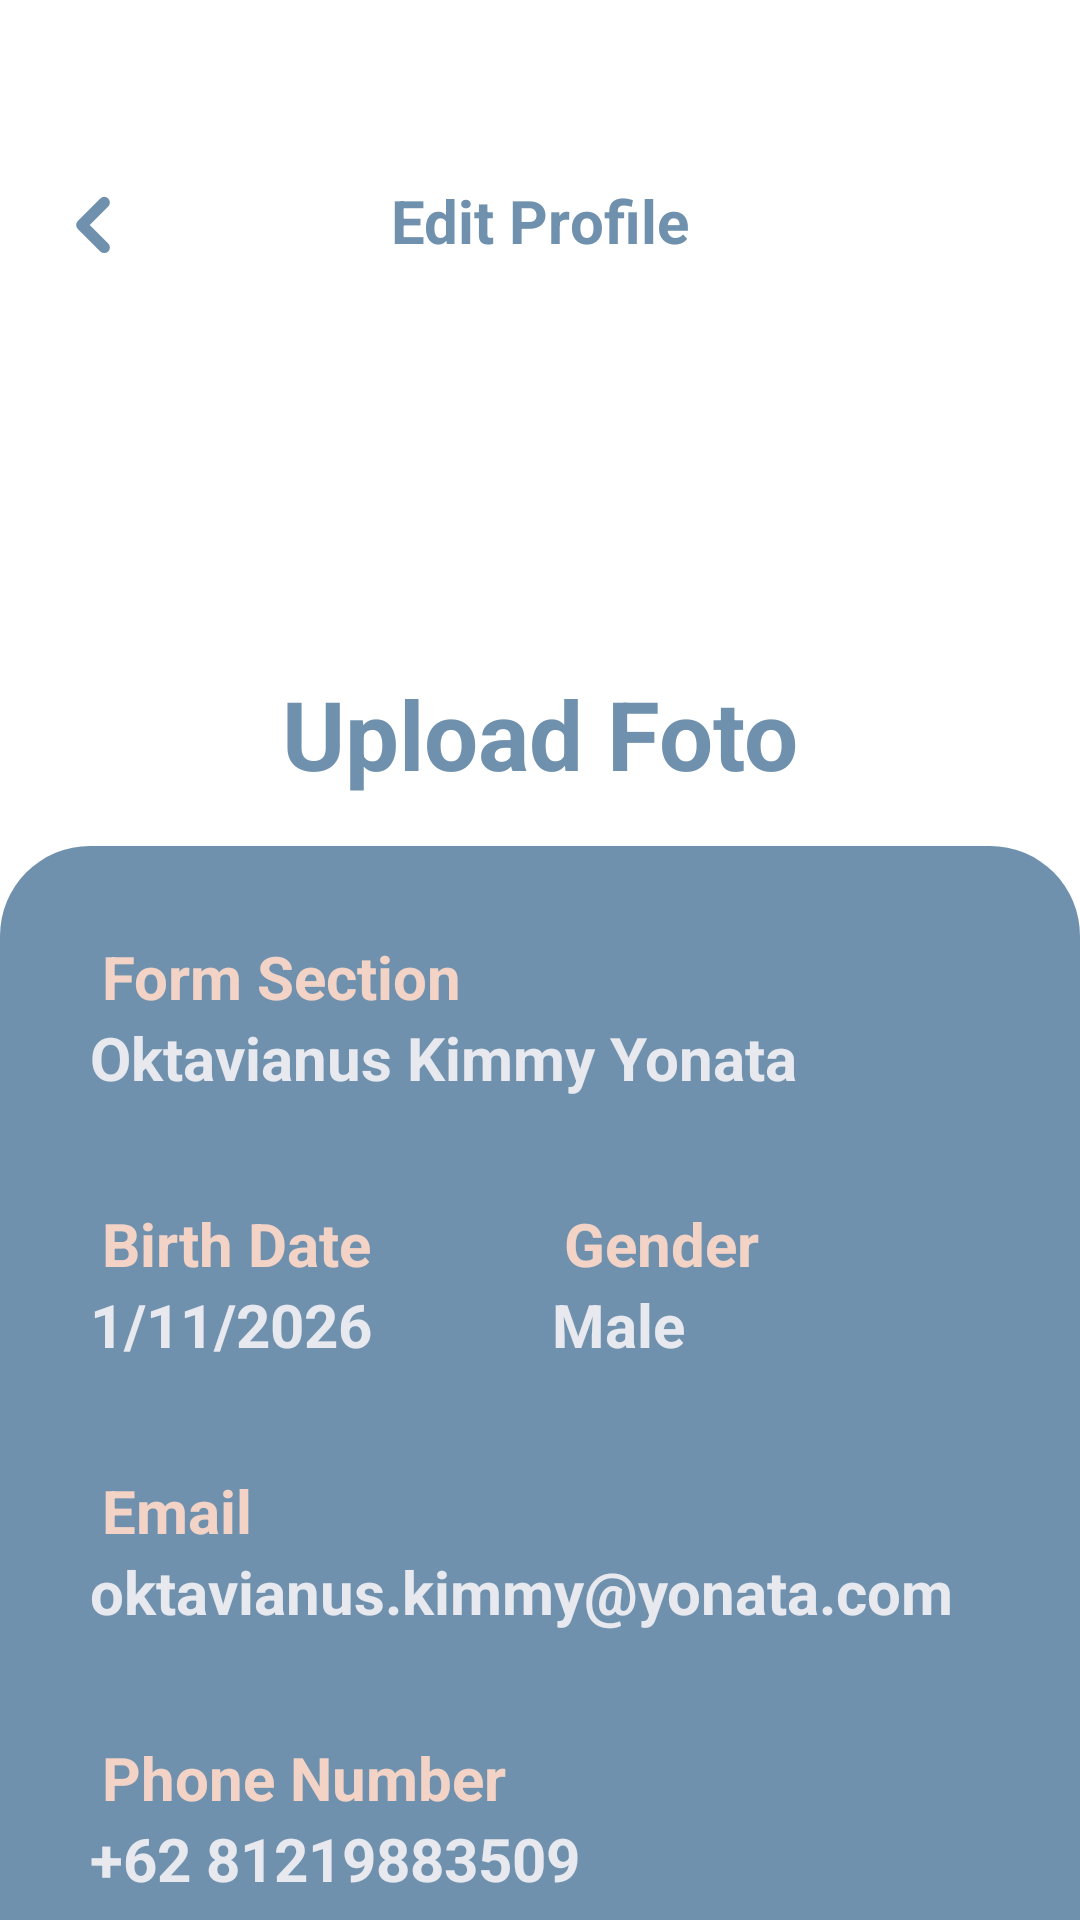

Locate icon controls on the screen. Image size 1080w x 1920h, boxes as {"x1": x1, "y1": y1, "x2": x2, "y2": y2}.
back: {"x1": 76, "y1": 196, "x2": 110, "y2": 253}
